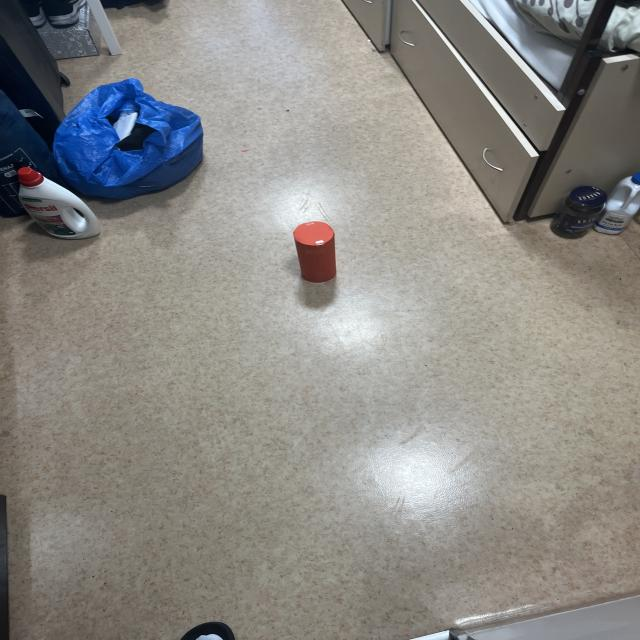przeszkoda: (293, 221, 336, 283)
